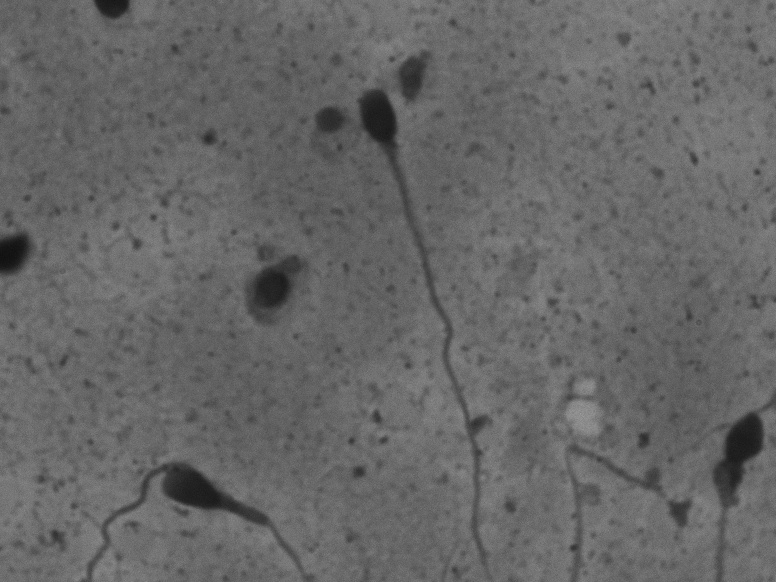Abnormal: (344, 78, 509, 573), (61, 435, 307, 568)
